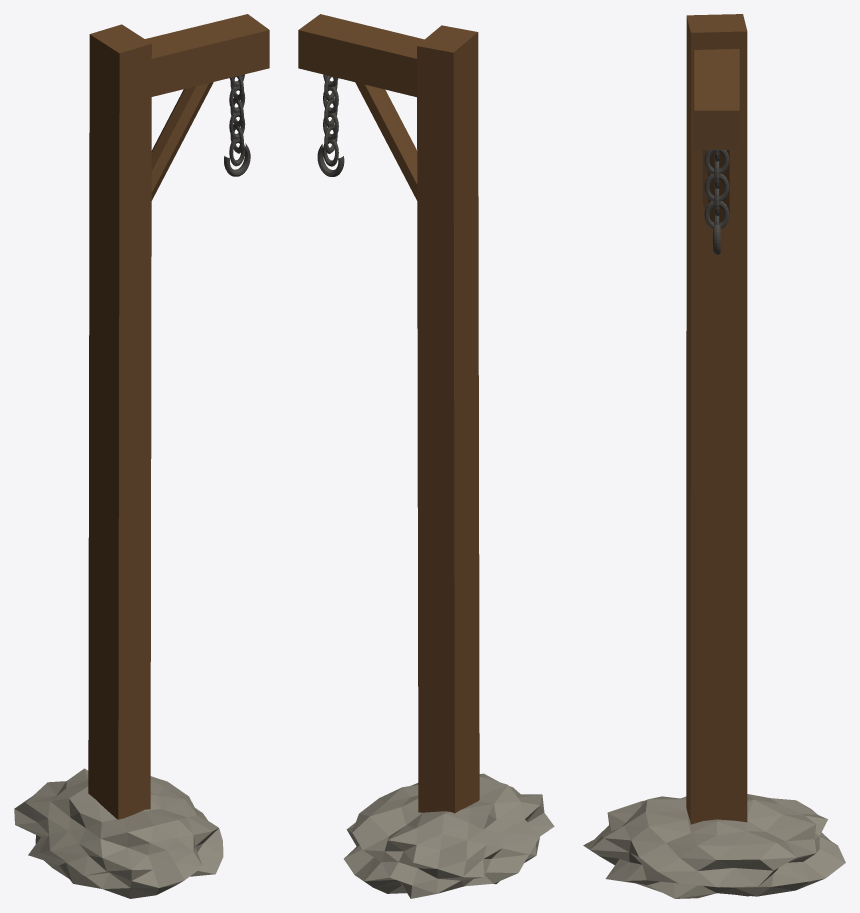
The model's file is gibbet-post.glb.
3 renders of one model, left to right at view 1: azimuth 30°, elevation 25°; view 2: azimuth 150°, elevation 25°; view 3: azimuth 270°, elevation 25°, orthographic. The views are drawn at different scales.
Parts seen in each view (by area): view 1: Body_Wood, Body_Stone, Body_Iron; view 2: Body_Wood, Body_Stone, Body_Iron; view 3: Body_Wood, Body_Stone, Body_Iron.
Part boxes in pixels (box(x1,y1,x2,y2)): Body_Wood: box(88, 14, 269, 819); Body_Stone: box(14, 768, 223, 898); Body_Iron: box(224, 74, 250, 176); Body_Wood: box(298, 14, 479, 813); Body_Stone: box(344, 773, 554, 898); Body_Iron: box(317, 74, 344, 176); Body_Wood: box(686, 14, 747, 824); Body_Stone: box(583, 794, 845, 898); Body_Iron: box(704, 150, 729, 254).
Size of the model in its own units: 1 by 3.6 by 1.
